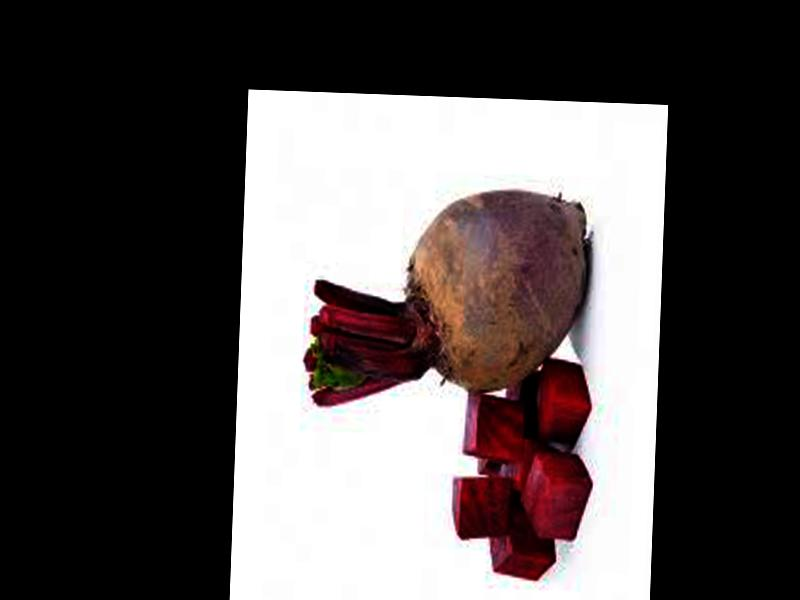Beet: (304, 183, 591, 415)
